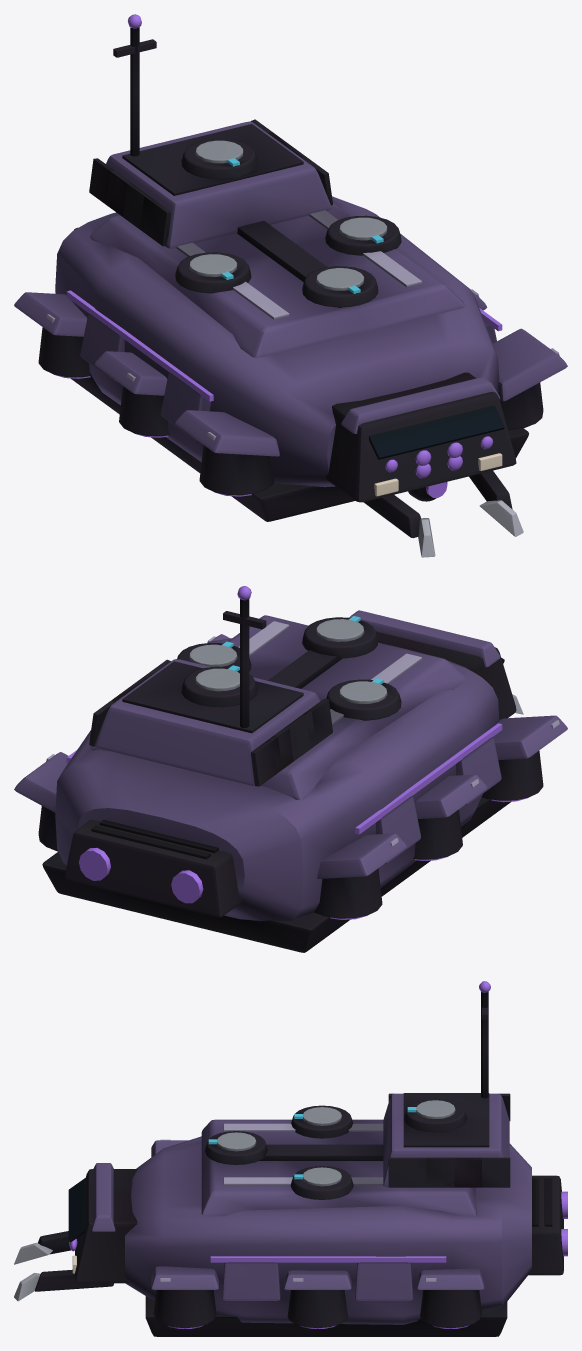
File: ex_strider_6.glb
The picture shows the model from 3 angles, top to bottom: view 1: azimuth 30°, elevation 25°; view 2: azimuth 150°, elevation 25°; view 3: azimuth 270°, elevation 25°; orthographic projection. The views are drawn at different scales.
Parts seen in each view (by area): view 1: body; view 2: body; view 3: body.
Part boxes in pixels (bbox=[...]): body: bbox=[14, 14, 567, 557]; body: bbox=[14, 586, 567, 952]; body: bbox=[14, 981, 567, 1336].
Bounding box in the file's own units: 6.09 × 5.66 × 9.99.
